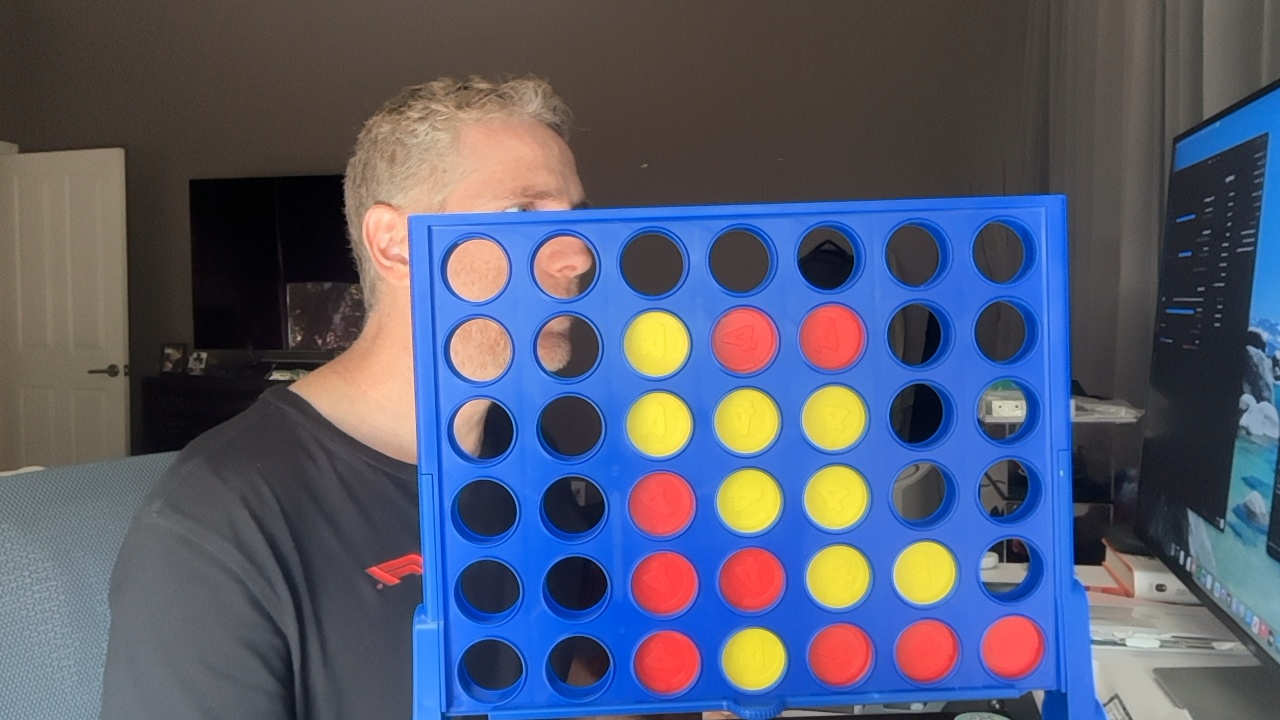red piece: (711, 307, 777, 373), (629, 471, 694, 537), (800, 304, 865, 370), (631, 551, 697, 615), (634, 631, 699, 695), (808, 623, 872, 687), (719, 548, 784, 611), (895, 619, 958, 683), (981, 616, 1044, 679)
yellow piece: (623, 310, 689, 377), (714, 388, 780, 454), (626, 391, 691, 457), (716, 468, 781, 533), (804, 465, 868, 530), (806, 544, 870, 609), (802, 385, 866, 450), (721, 627, 786, 691), (894, 540, 957, 605)
